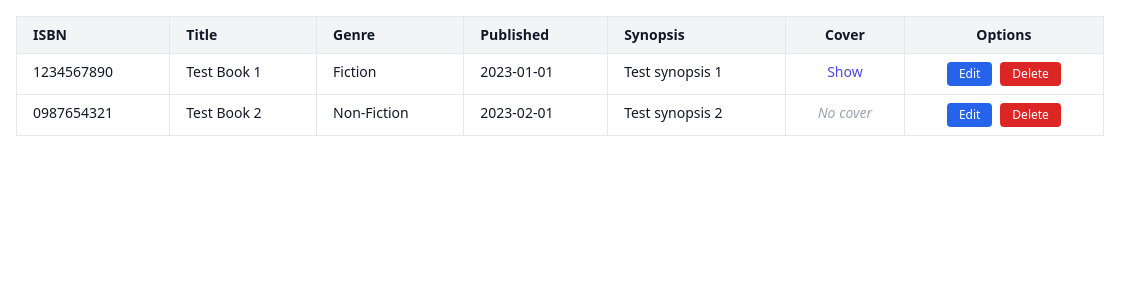
it: BookTable Component › shows error message when user is not authenticated
The image size is (1121, 308).
Click the button "Edit" in the row of "1234567890" at (970, 74), box 947,62 -> 992,86
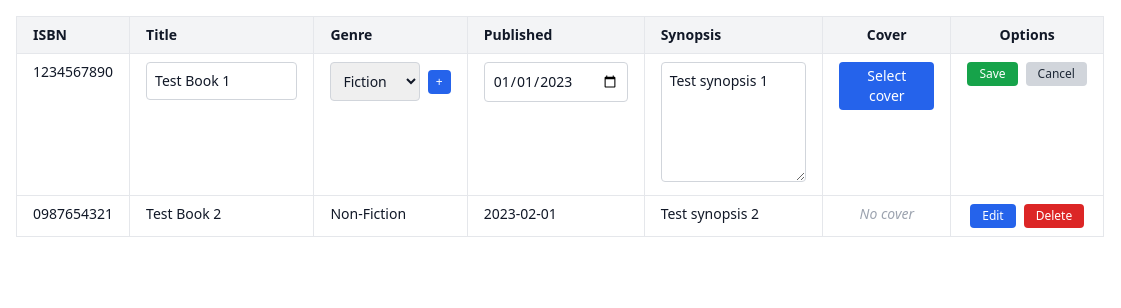
Click the button "Save" at (992, 74), box 967,62 -> 1018,86
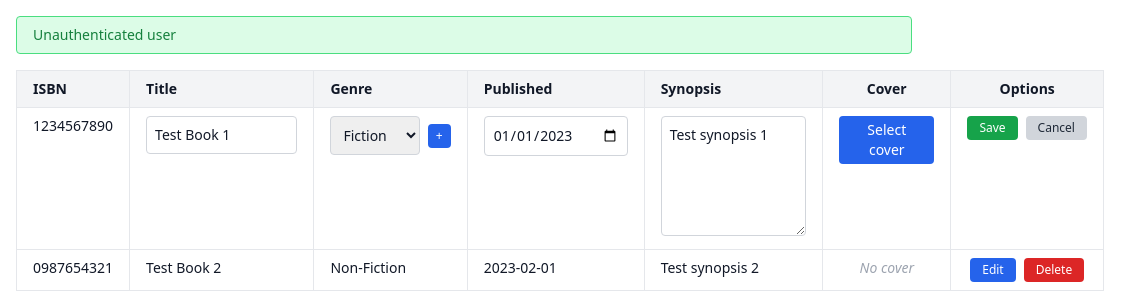
Now the text "Unauthenticated user" is shown, box 16,16 -> 912,54
